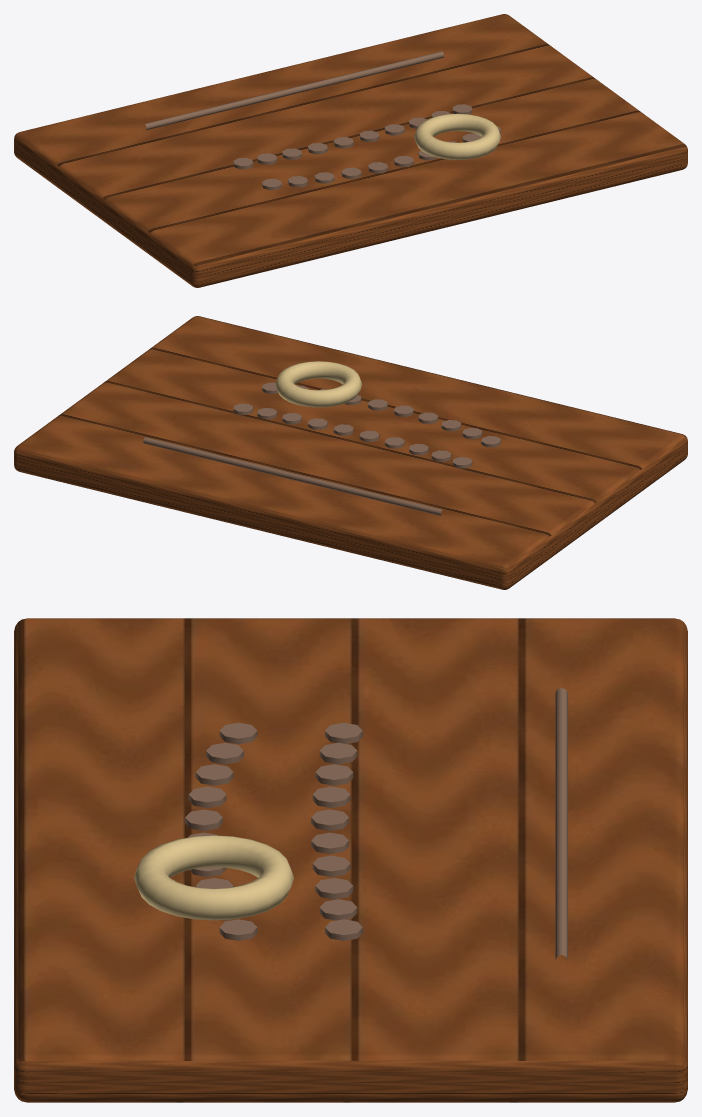
The model's file is paranormal-investigation-house-spirit-board-cd3e28f1__26793.glb.
The picture shows the model from 3 angles, top to bottom: view 1: azimuth 30°, elevation 25°; view 2: azimuth 150°, elevation 25°; view 3: azimuth 270°, elevation 25°; orthographic projection. The views are drawn at different scales.
Parts seen in each view (by area): view 1: spirit-board; view 2: spirit-board; view 3: spirit-board.
Boxes of the visible parts, box(x1,y1,x2,y2) form: spirit-board: box(14, 14, 687, 287); spirit-board: box(14, 316, 687, 589); spirit-board: box(14, 618, 687, 1102).
Size of the model in its own units: 0.5 by 0.044 by 0.32.
3 materials, 1 textured.
